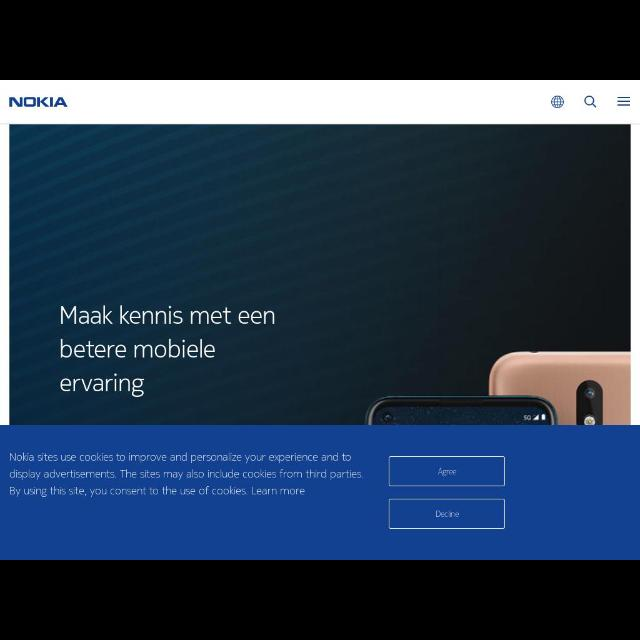backgroundimage: (3, 123, 639, 425)
icon: (584, 95, 598, 111), (615, 95, 633, 107), (550, 95, 564, 109)
iframe: (1, 427, 639, 559)
image: (8, 92, 68, 110)
text: (54, 304, 278, 396), (9, 450, 364, 500), (437, 466, 458, 478), (436, 509, 460, 518)
textbutton: (388, 500, 506, 530), (388, 458, 504, 487)
toolbar: (2, 82, 640, 124)
